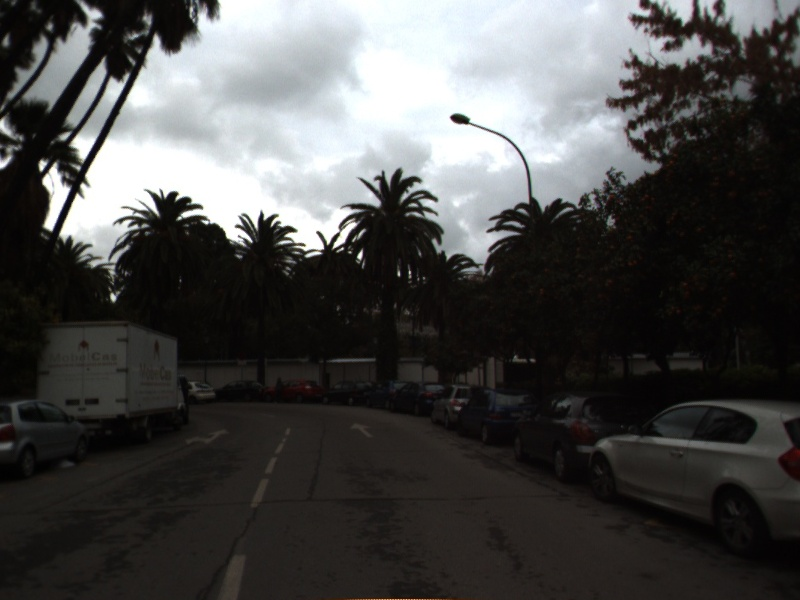STRAIGHT: (348, 420, 376, 440)
STRAIGHT_LEFT: (182, 427, 232, 448)
